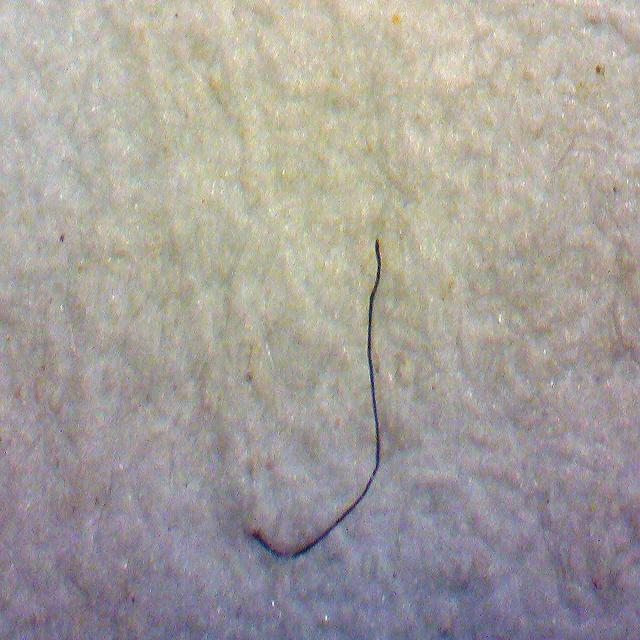microplastic: (250, 239, 382, 561)
